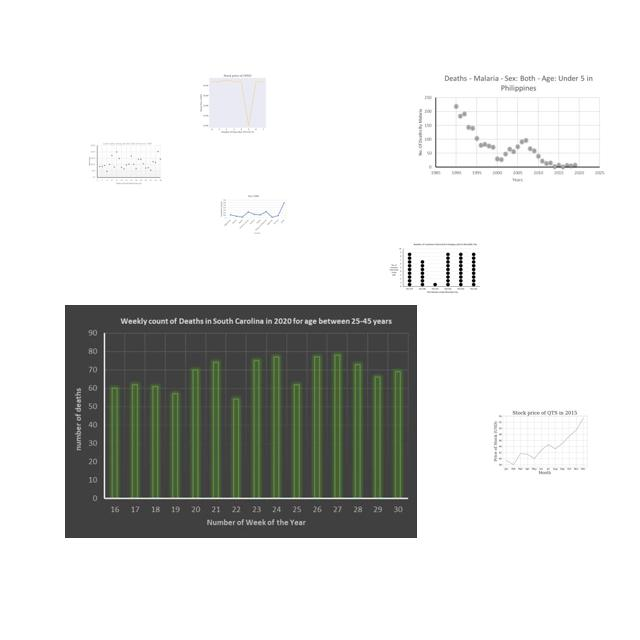Graph: (65, 305, 417, 538), (415, 71, 607, 186), (489, 400, 598, 482), (193, 70, 280, 135), (389, 242, 481, 295), (88, 142, 162, 185), (218, 193, 289, 236)
